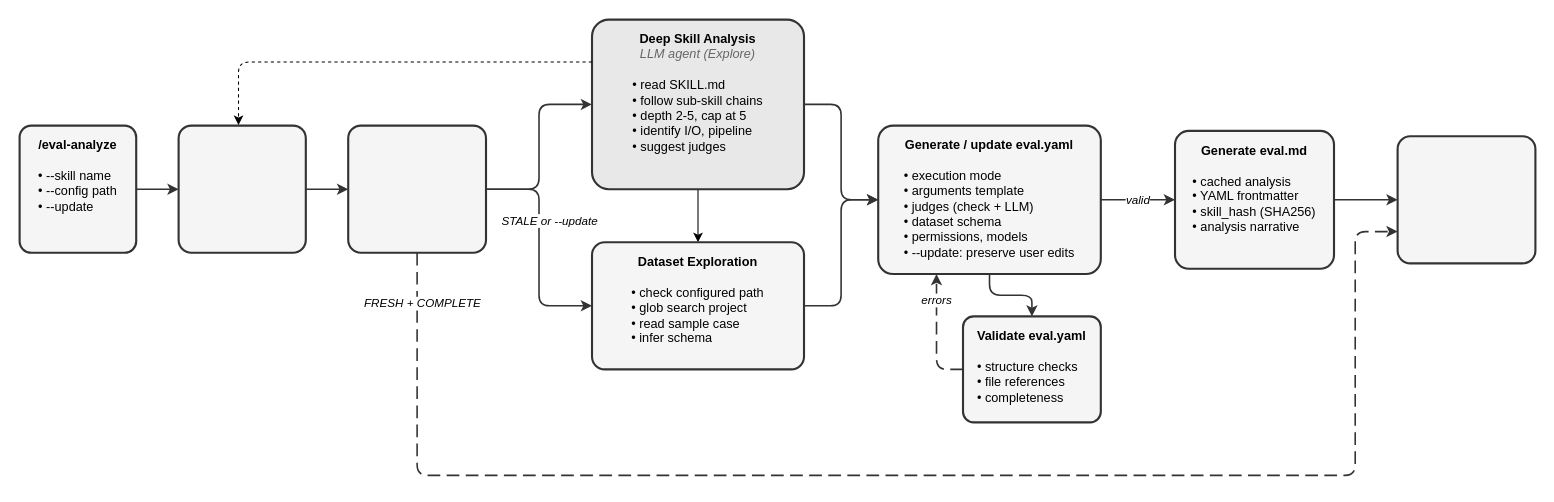
The diagram is 1554 pixels wide and 502 high, and some of its shapes have lost their labels. Each missing label, with the box of its shape:
Find Skill • plugin.json paths • .claude/skills/ • skills/: (177, 124, 306, 253)
Freshness Check • eval.md exists? • SHA256 match? • config complete?: (347, 124, 487, 253)
Report • eval.yaml summary • next: /eval-dataset • or: /eval-run: (1396, 135, 1536, 264)
